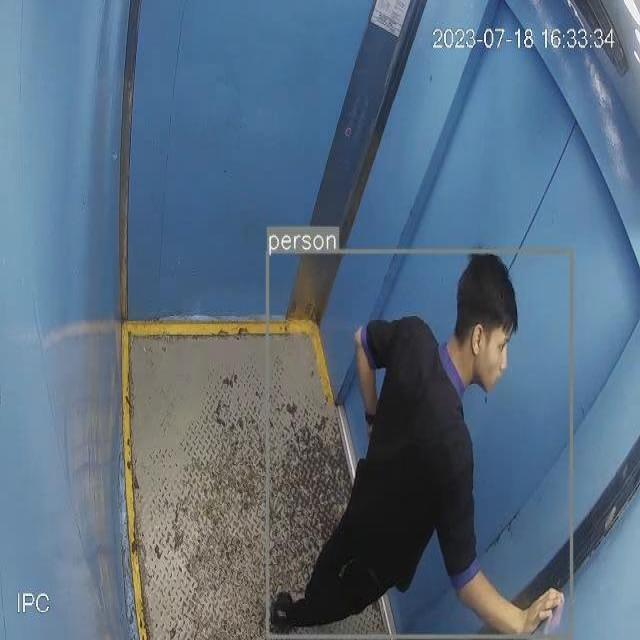person: (269, 252, 572, 636)
